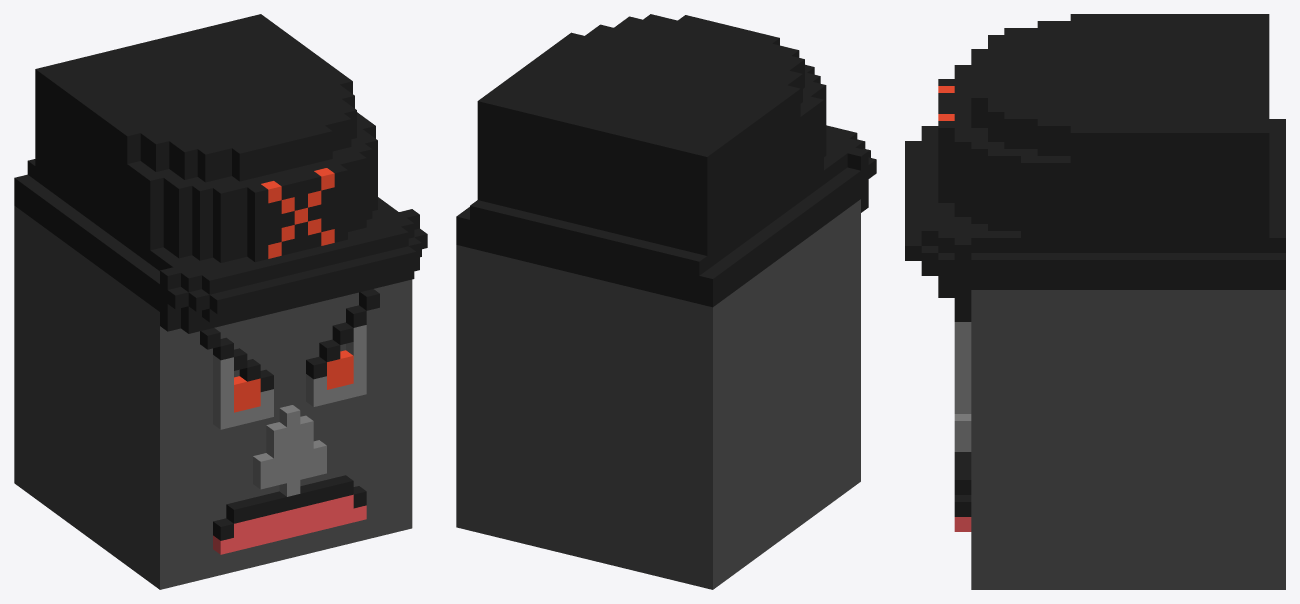
The model's file is Requester-5.obj.
3 views of the same model, side by side, from view 1: azimuth 30°, elevation 25°; view 2: azimuth 150°, elevation 25°; view 3: azimuth 270°, elevation 25° (orthographic). The views are drawn at different scales.
Size of the model in its own units: 1.9 by 3 by 2.3.
Materials: 1 (1 with a texture image).
